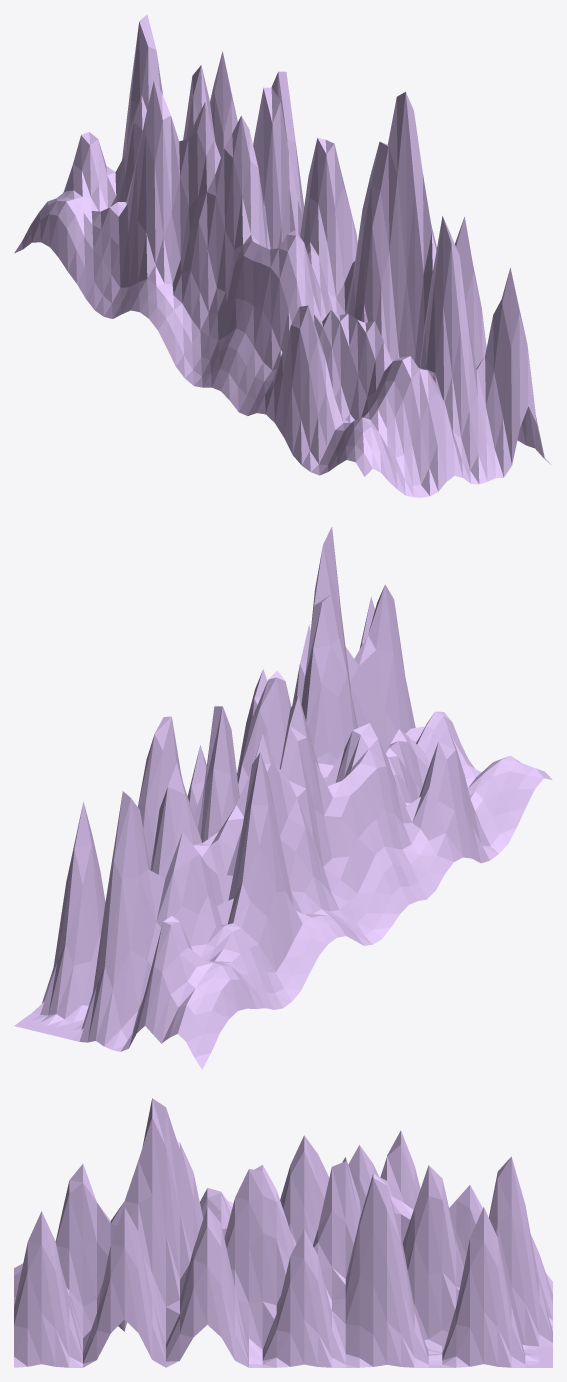
The model's file is terrain_g.dae.
3 views of the same model, one above another, from view 1: azimuth 30°, elevation 25°; view 2: azimuth 150°, elevation 25°; view 3: azimuth 270°, elevation 25° (orthographic). The views are drawn at different scales.
Visible parts, largest first — view 1: group_9; view 2: group_9; view 3: group_9.
Boxes of the visible parts, <box> form: group_9: <box>14,14,550,497</box>; group_9: <box>14,527,552,1069</box>; group_9: <box>14,1098,552,1367</box>.
Bounding box in the file's own units: 241 × 777 × 395.
